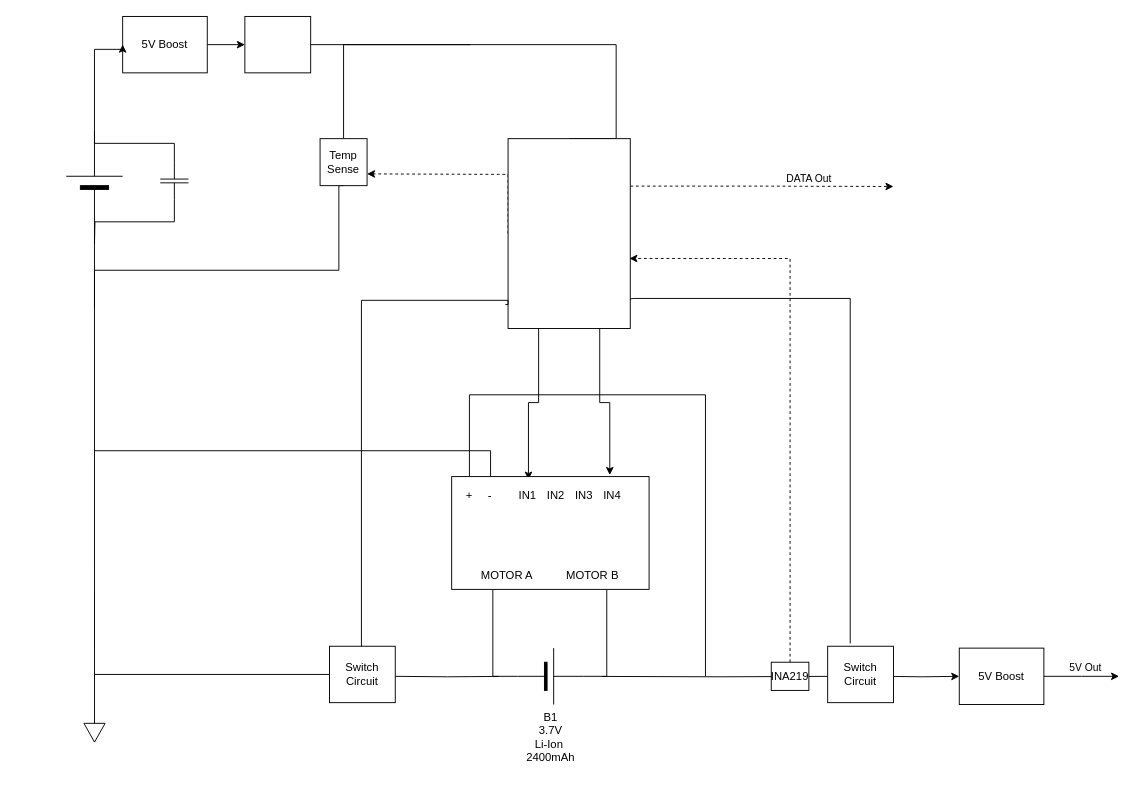
The diagram is 1143 pixels wide and 808 high, and some of its shapes have lost their labels. Each missing label, with the box of its shape:
3V3 Reg: (244, 16, 311, 73)
B2 3.6V LiSOCl2 2400mAh: (65, 133, 123, 228)
HW 354: (451, 476, 649, 589)
STM32F103: (507, 138, 630, 329)
